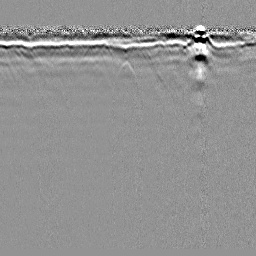cavity: (117, 59, 137, 80)
